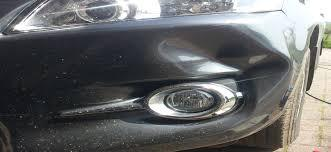front-bumper-dent: (143, 22, 294, 99)
